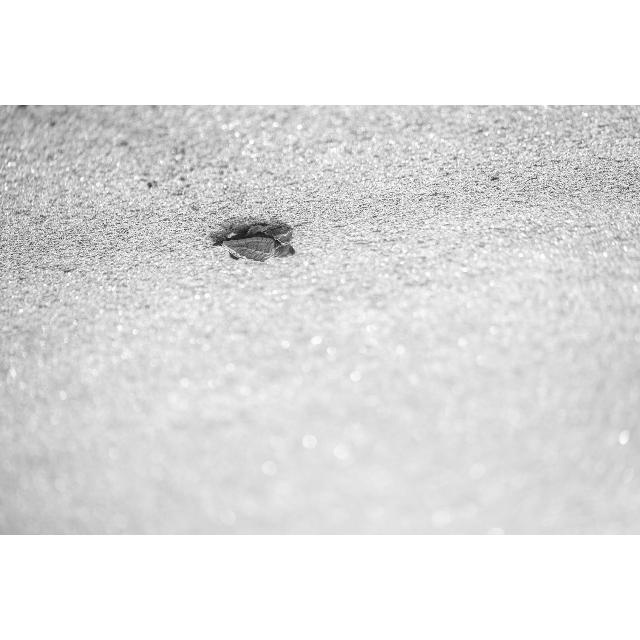turtle: (216, 220, 296, 263)
